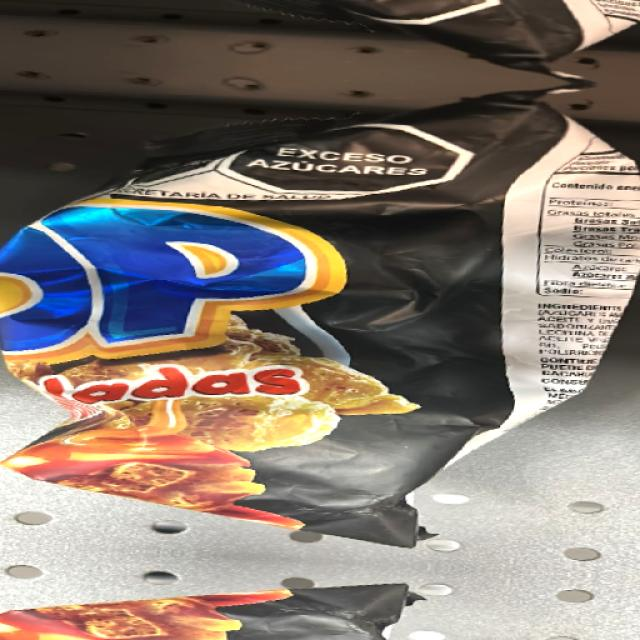popKarameladas: (4, 151, 506, 530)
